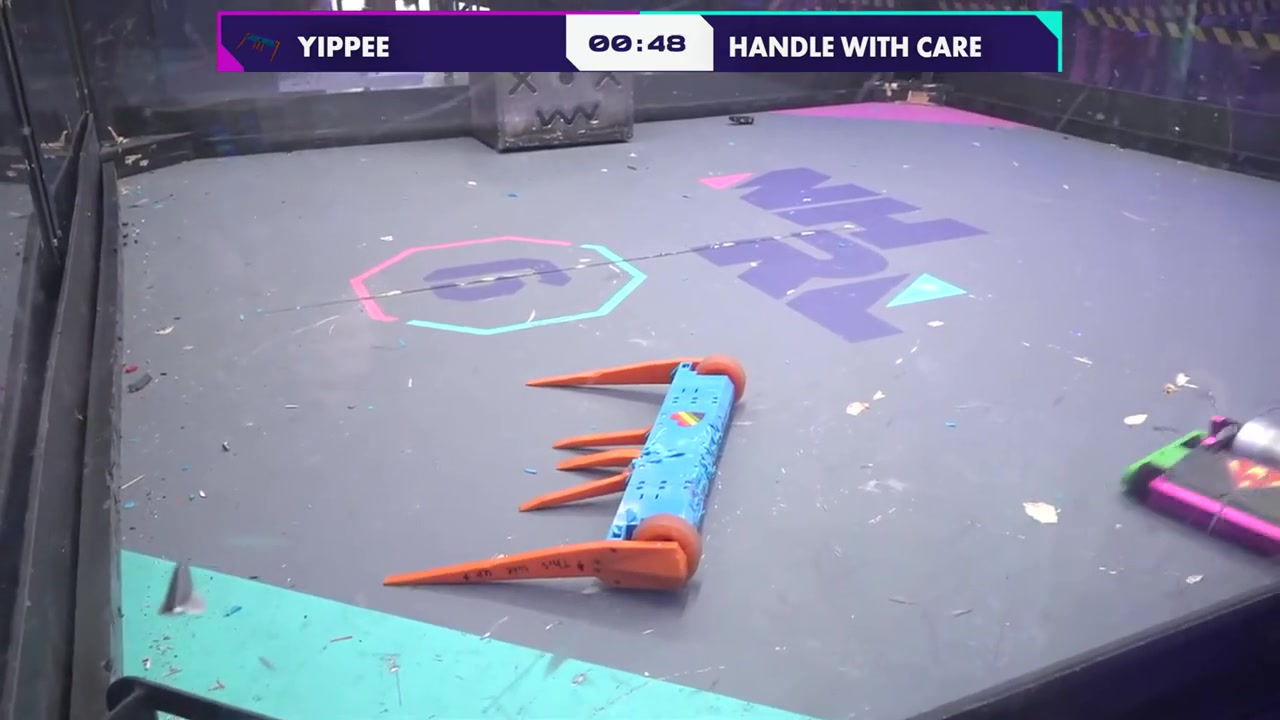combatbot: (381, 355, 745, 585), (1120, 408, 1280, 566)
debris: (121, 363, 161, 397), (727, 114, 756, 126)
housebot: (467, 72, 635, 156)
